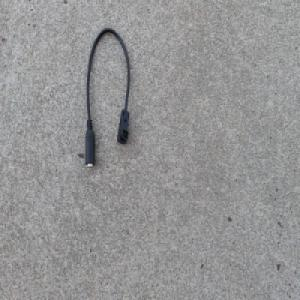Wire: (84, 26, 131, 170)
